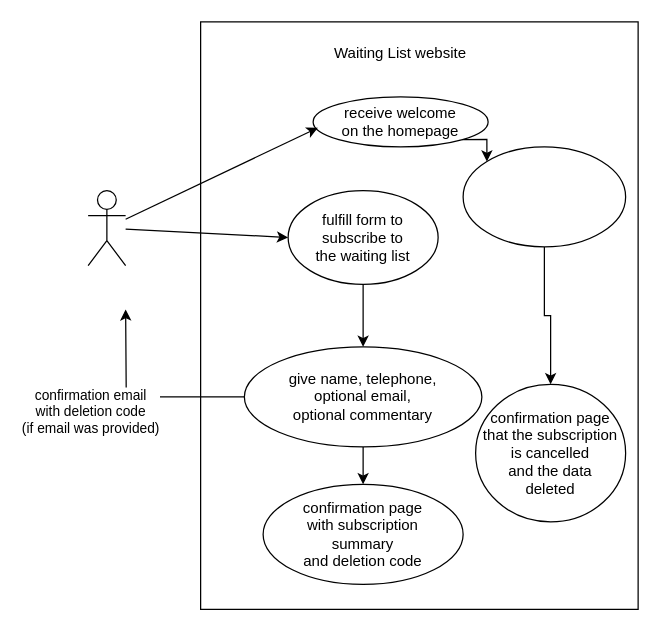
Image size: 660x631. Some labels were removed from this diagram. The centre of each missing label's shape, as x and y in pixels:
"give deletion code to cancel the subscription" belongs at (x=544, y=196).
"patient" belongs at (x=106, y=227).
